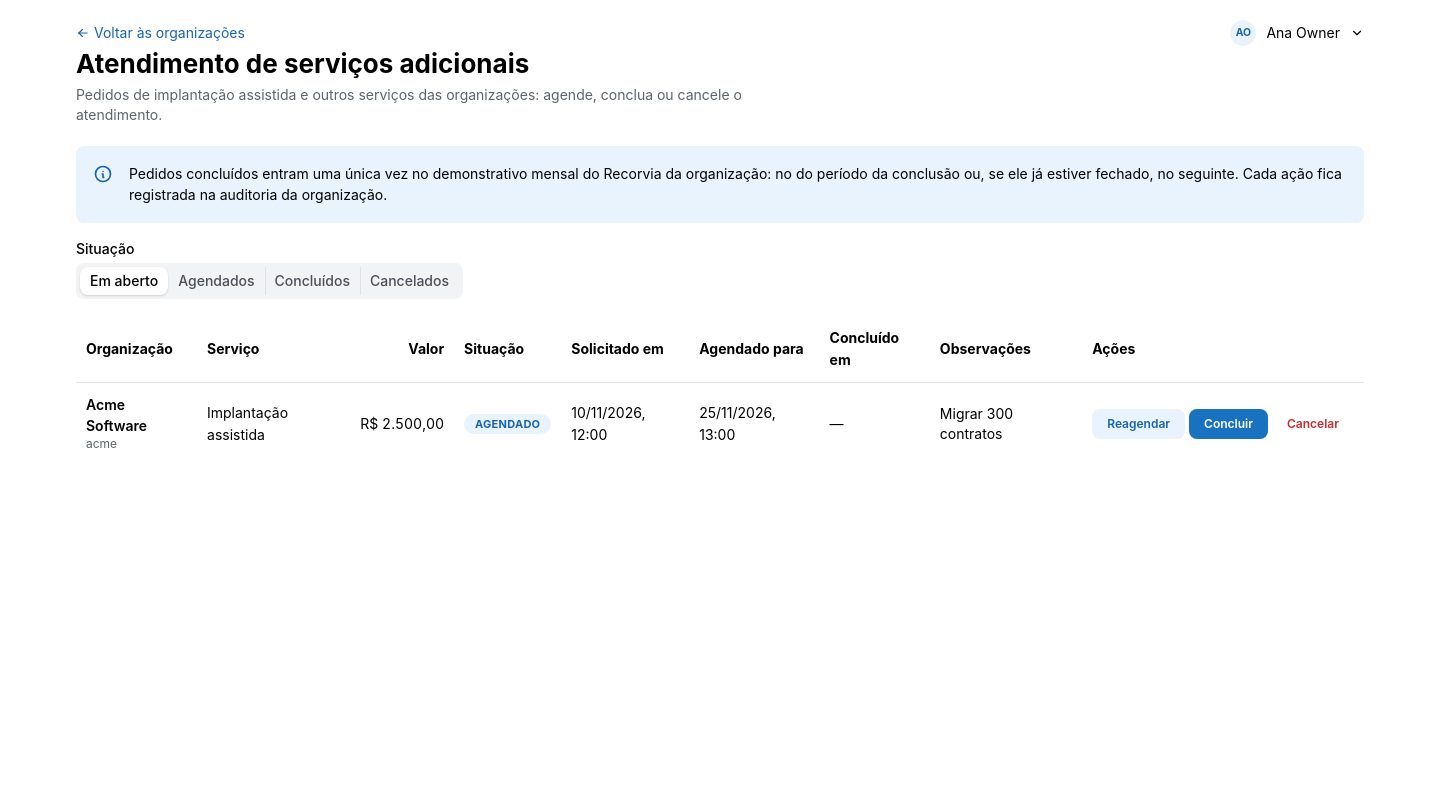
Test case: atendimento de serviços adicionais › conclui somente depois da confirmação, que explica a cobrança no demonstrativo
The width and height of the screenshot is (1440, 810).
Click the button with aria-label "Concluir Acme Software" at [1229, 424], box [1189,409,1268,439]
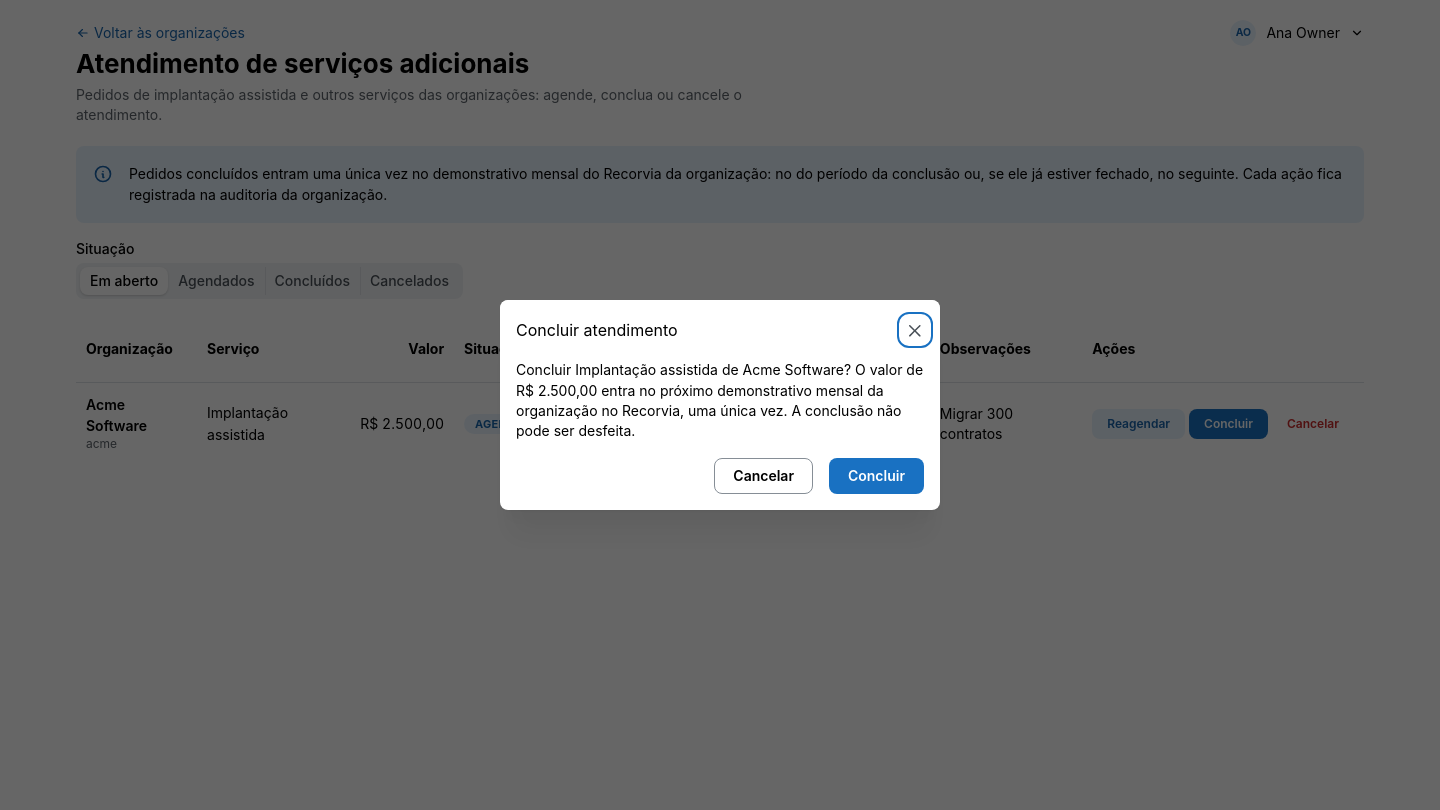
Expected: the dialog "Concluir atendimento" shows "entra no próximo demonstrativo mensal da organização", [516,361,923,439]
Click the button "Cancelar" at [764, 476], box [714,458,813,494]
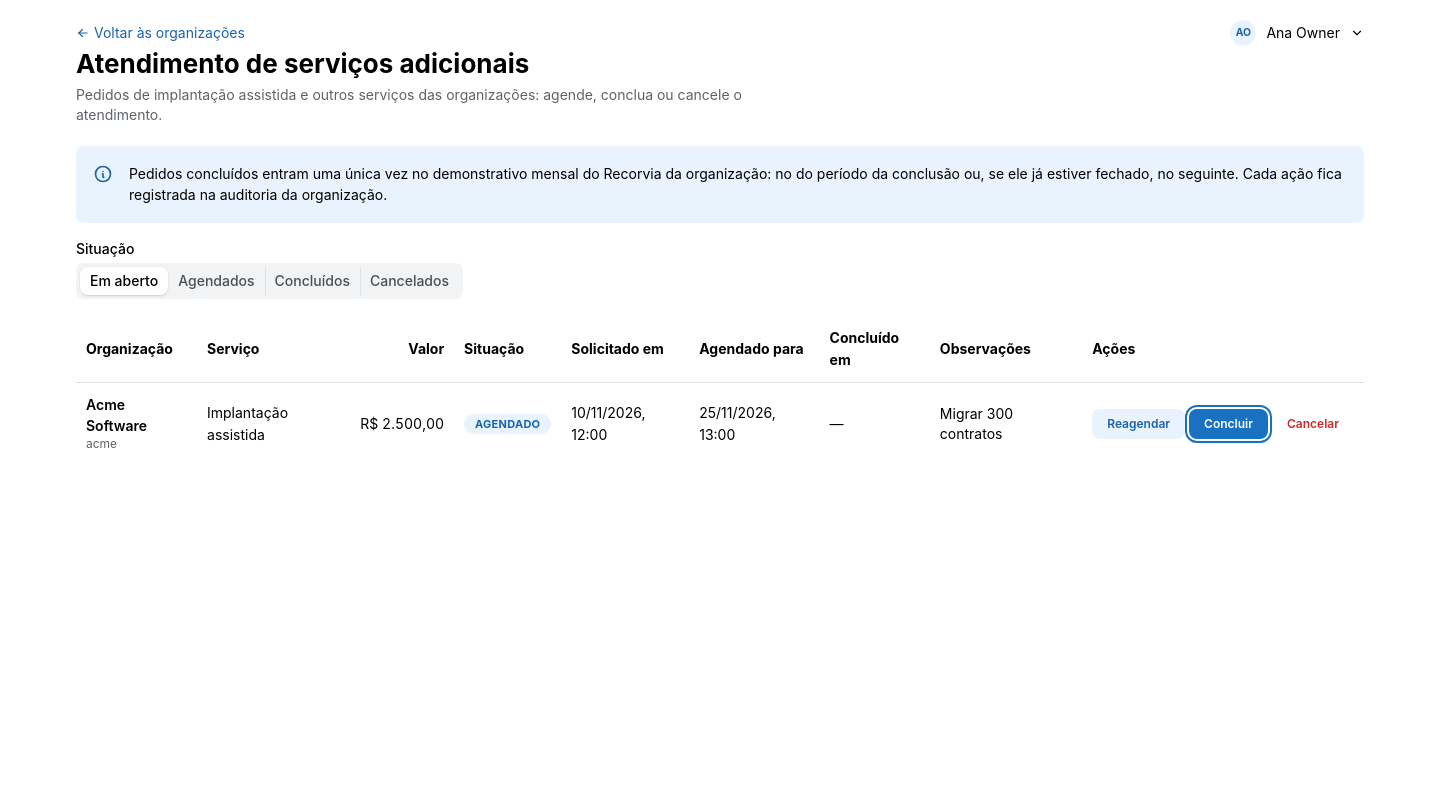
Expected: the heading "Concluir atendimento" is gone
Click the button with aria-label "Concluir Acme Software" at [1229, 424], box [1189,409,1268,439]
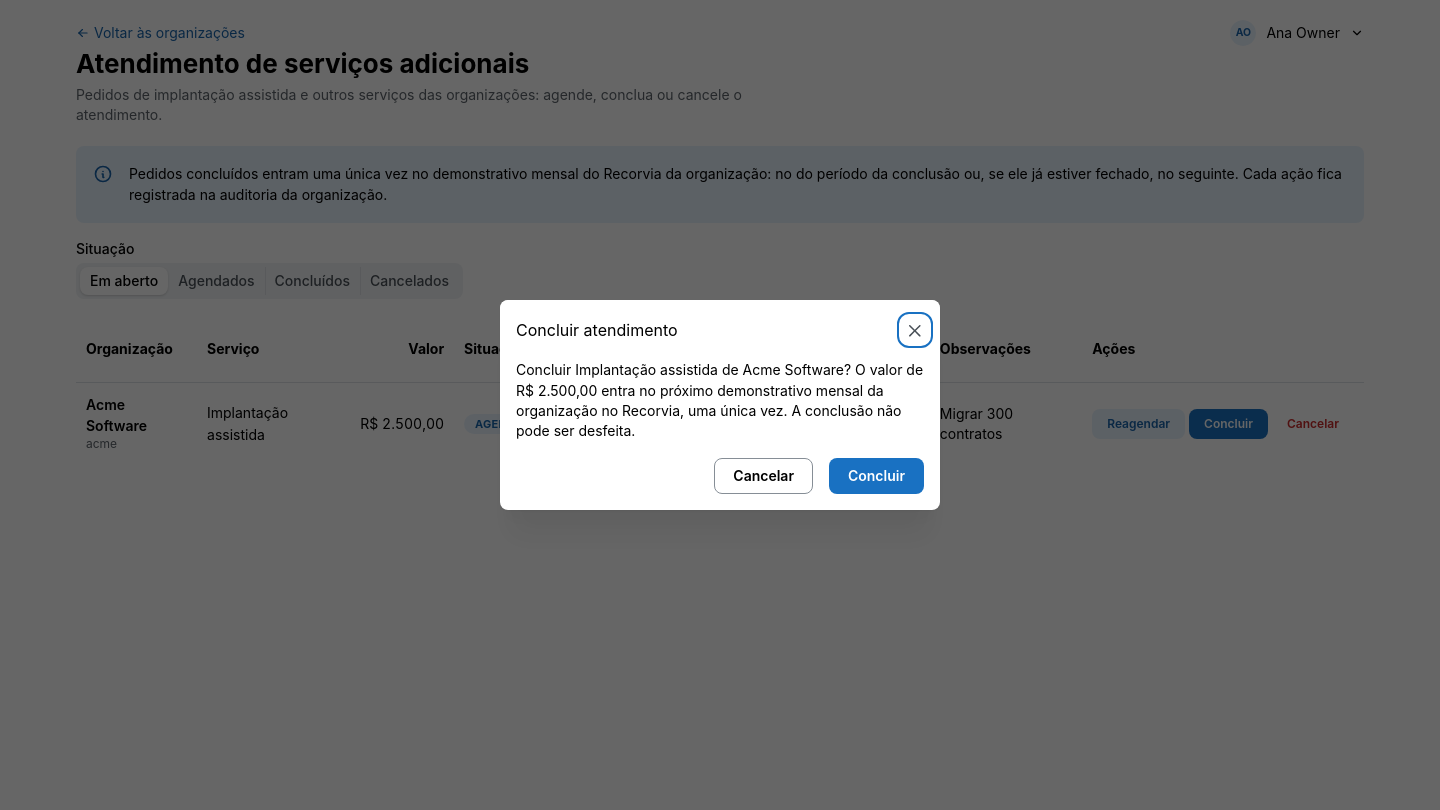
Click the button "Concluir" at [876, 476], box [829,458,924,494]
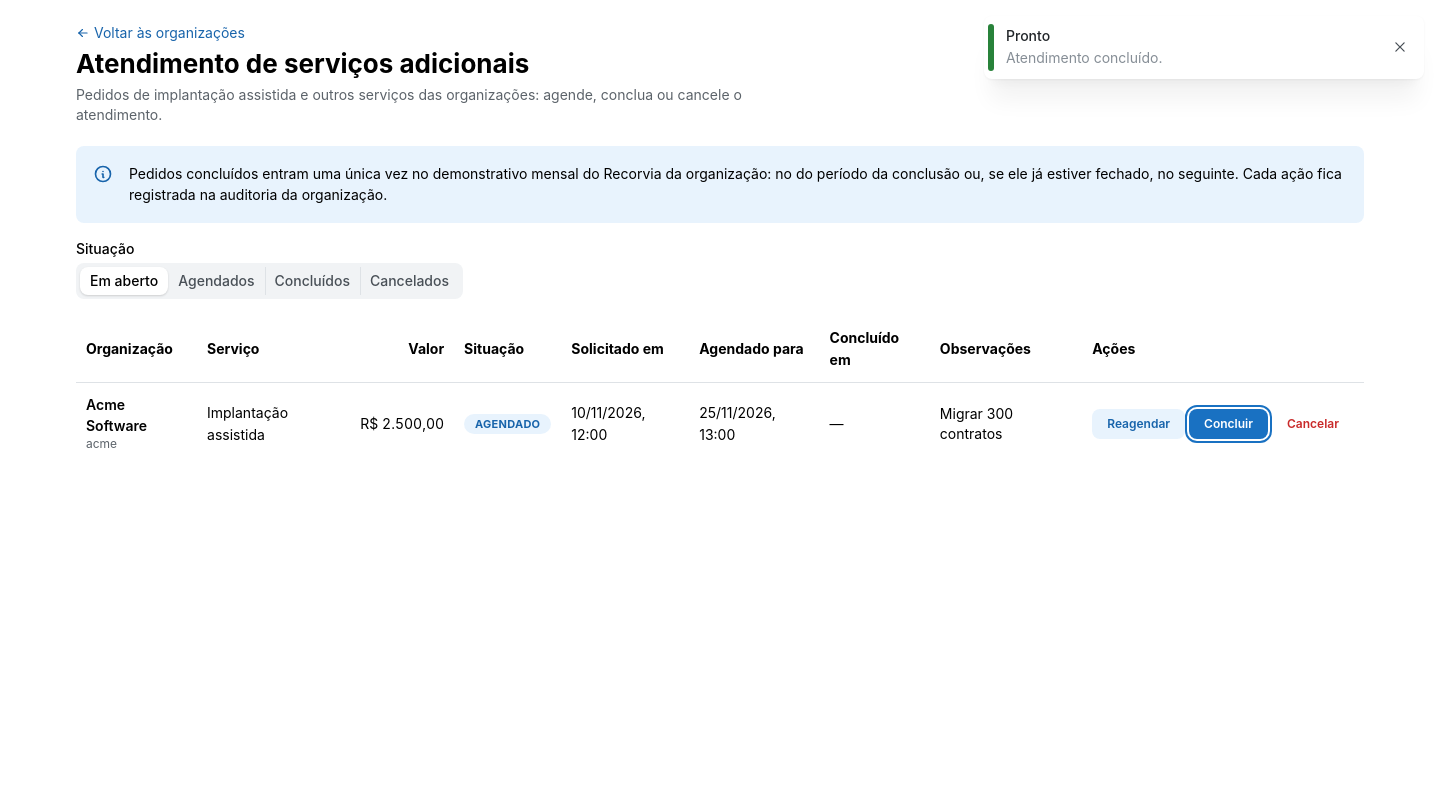
Expected: the text "Atendimento concluído." is shown, [1006,49,1162,66]
